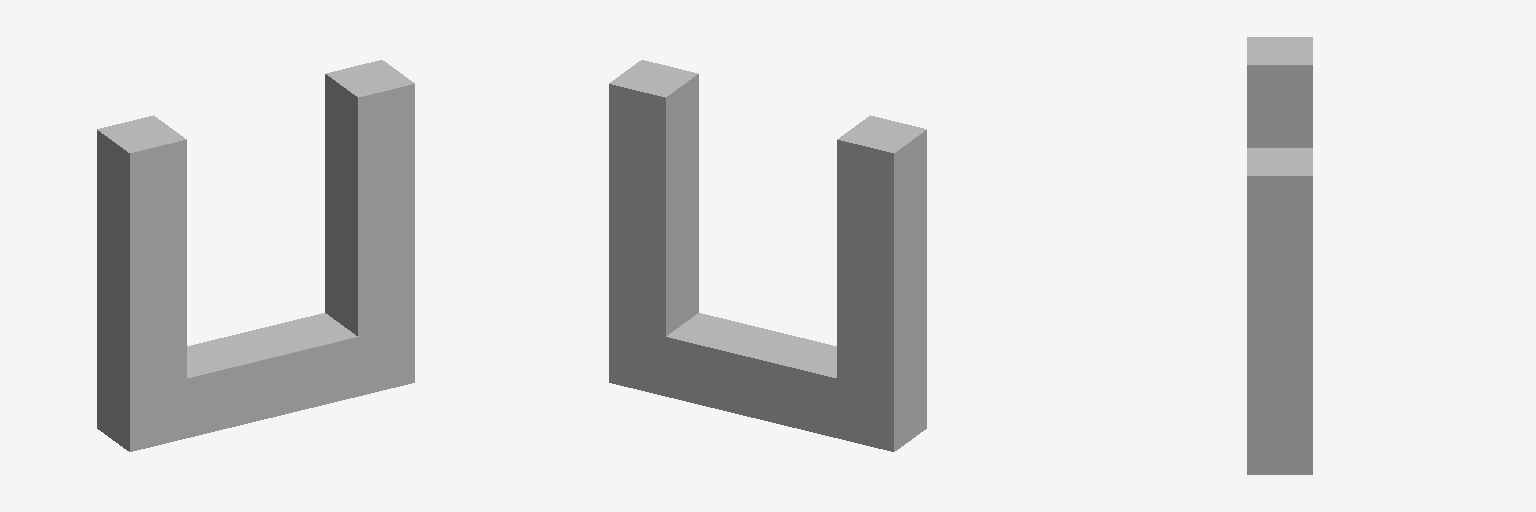
File: beam_10.obj
3 views of the same model, side by side, from view 1: azimuth 30°, elevation 25°; view 2: azimuth 150°, elevation 25°; view 3: azimuth 270°, elevation 25° (orthographic).
Visible parts, largest first — view 1: beam_10_Cube.070; view 2: beam_10_Cube.070; view 3: beam_10_Cube.070.
Part boxes in pixels (bbox=[...]): beam_10_Cube.070: bbox=[97, 60, 414, 451]; beam_10_Cube.070: bbox=[609, 60, 926, 451]; beam_10_Cube.070: bbox=[1247, 37, 1312, 474].
Size of the model in its own units: 1.25 by 1.25 by 0.25.